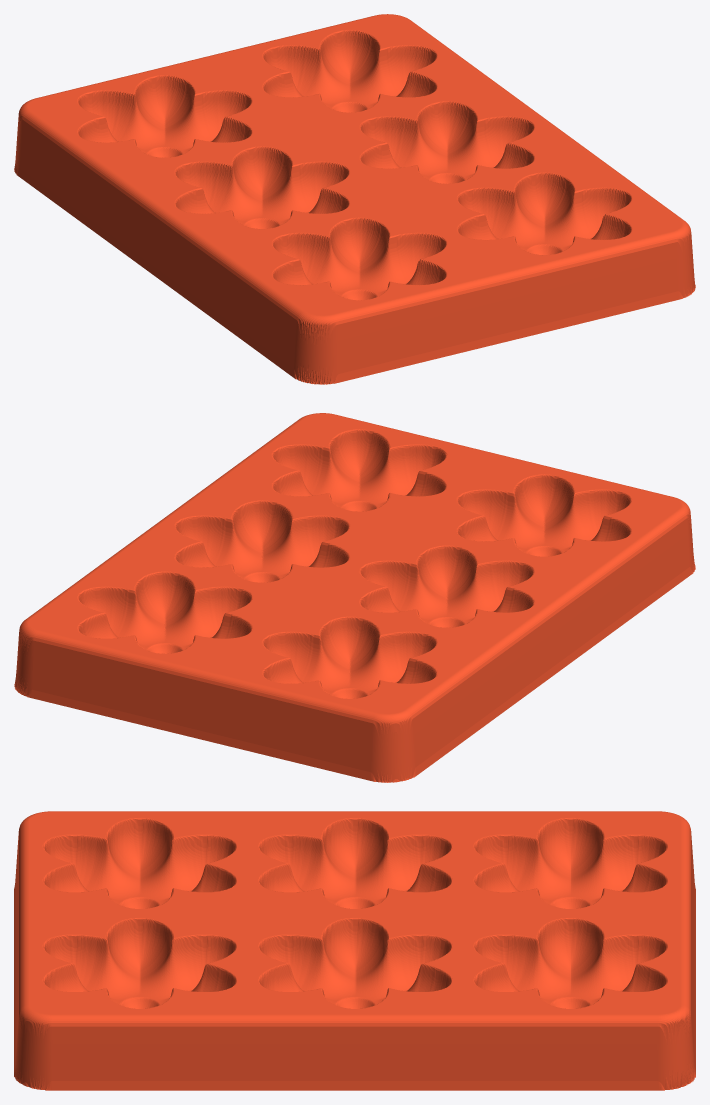
Rendered from mold.glb.
3 renders of one model, top to bottom at view 1: azimuth 30°, elevation 25°; view 2: azimuth 150°, elevation 25°; view 3: azimuth 270°, elevation 25°, orthographic. The views are drawn at different scales.
Parts seen in each view (by area): view 1: geometry_0; view 2: geometry_0; view 3: geometry_0.
Part boxes in pixels (box(x1,y1,x2,y2)): geometry_0: box(14, 14, 695, 384); geometry_0: box(14, 413, 695, 782); geometry_0: box(14, 811, 695, 1090).
Size of the model in its own units: 0.1222 by 0.0185 by 0.1639.
